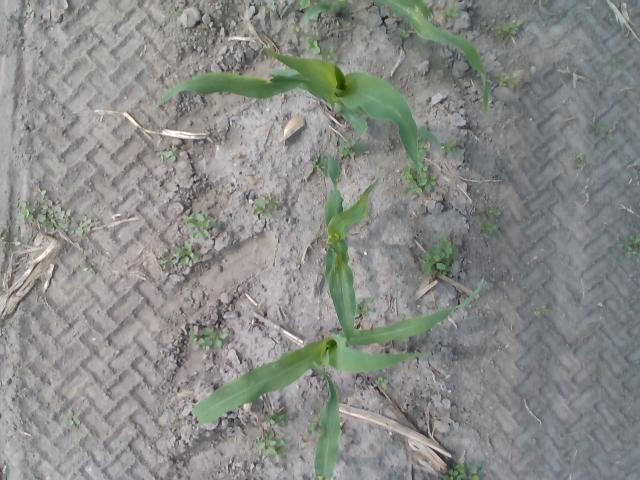Maize: (193, 277, 484, 479), (154, 50, 424, 180), (302, 0, 488, 116), (324, 152, 382, 342)
Weeds: (36, 188, 71, 232), (188, 212, 214, 238), (172, 243, 200, 264), (422, 251, 446, 274), (202, 327, 228, 348), (456, 460, 482, 480), (440, 237, 460, 262), (256, 431, 276, 456), (74, 214, 94, 236), (18, 202, 36, 223), (496, 20, 522, 34), (61, 409, 79, 428), (440, 136, 458, 154), (498, 72, 516, 89), (158, 146, 177, 162), (418, 176, 436, 192), (405, 180, 422, 196), (306, 36, 321, 53), (356, 305, 375, 317), (618, 243, 630, 262), (573, 154, 586, 170), (188, 332, 204, 345), (276, 440, 288, 457), (158, 253, 170, 270), (403, 166, 417, 180), (252, 200, 265, 215), (445, 8, 457, 24), (442, 469, 458, 480), (260, 414, 276, 425), (0, 229, 8, 251), (278, 414, 295, 424), (375, 377, 388, 390), (474, 214, 488, 226), (488, 207, 500, 221), (182, 212, 194, 226), (419, 142, 428, 160), (340, 147, 354, 158), (306, 422, 318, 434), (83, 263, 96, 274), (590, 122, 604, 132), (22, 10, 36, 20), (264, 2, 276, 13), (626, 246, 639, 256), (626, 237, 640, 246), (322, 48, 333, 59), (312, 162, 324, 172), (486, 223, 498, 232), (358, 297, 375, 303), (497, 152, 507, 162), (537, 305, 547, 315), (456, 463, 466, 473), (263, 191, 273, 201), (274, 201, 284, 211), (300, 0, 310, 9), (398, 29, 408, 38), (346, 140, 358, 147), (6, 16, 20, 22), (290, 26, 300, 34), (603, 132, 612, 140), (605, 13, 613, 22), (174, 10, 183, 18), (479, 233, 488, 241), (612, 57, 617, 70), (175, 415, 182, 424), (103, 387, 110, 396), (14, 236, 20, 246), (264, 212, 272, 218)
